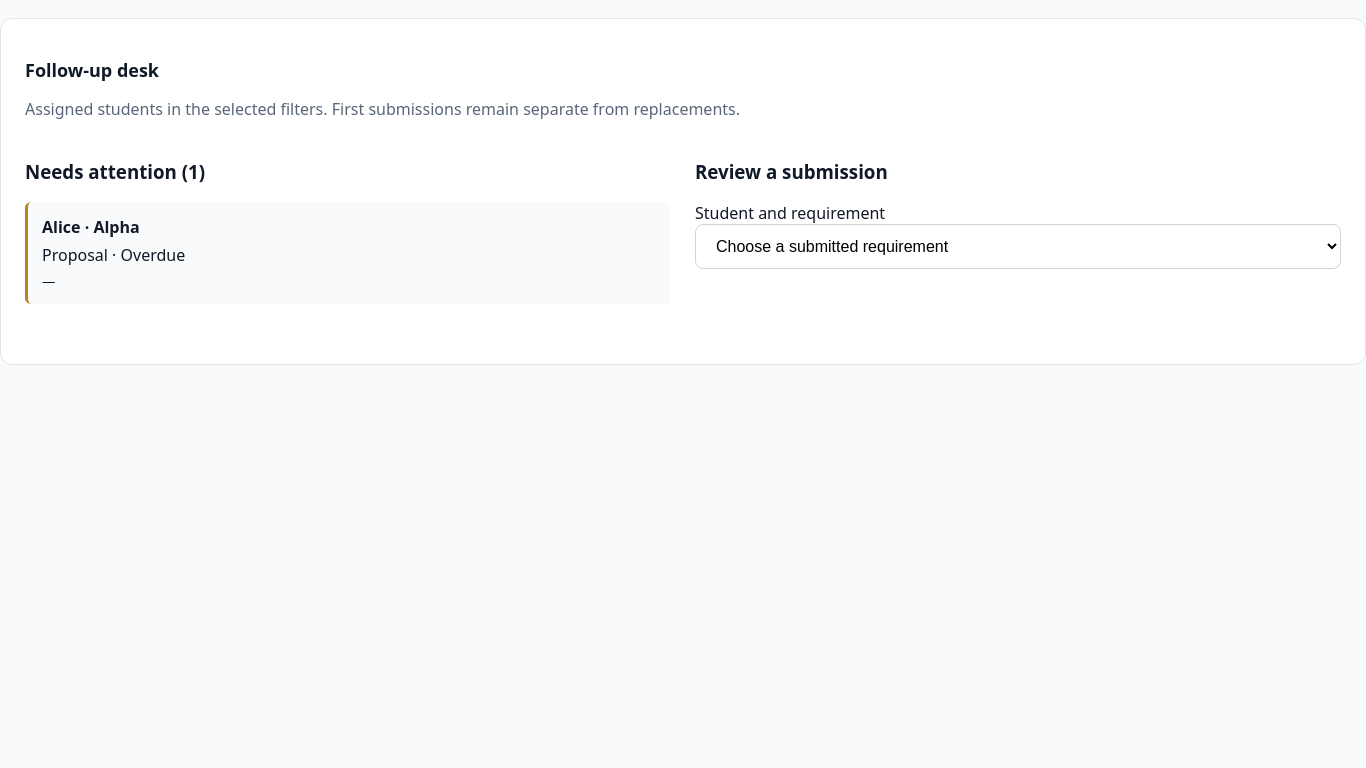
Test: shows follow-ups and fetches the selected submission history
This screenshot has width=1366, height=768.
Select "Bob · Beta · Proposal" in the dropdown labelled "Student and requirement" at (1018, 247), box [695,224,1341,269]
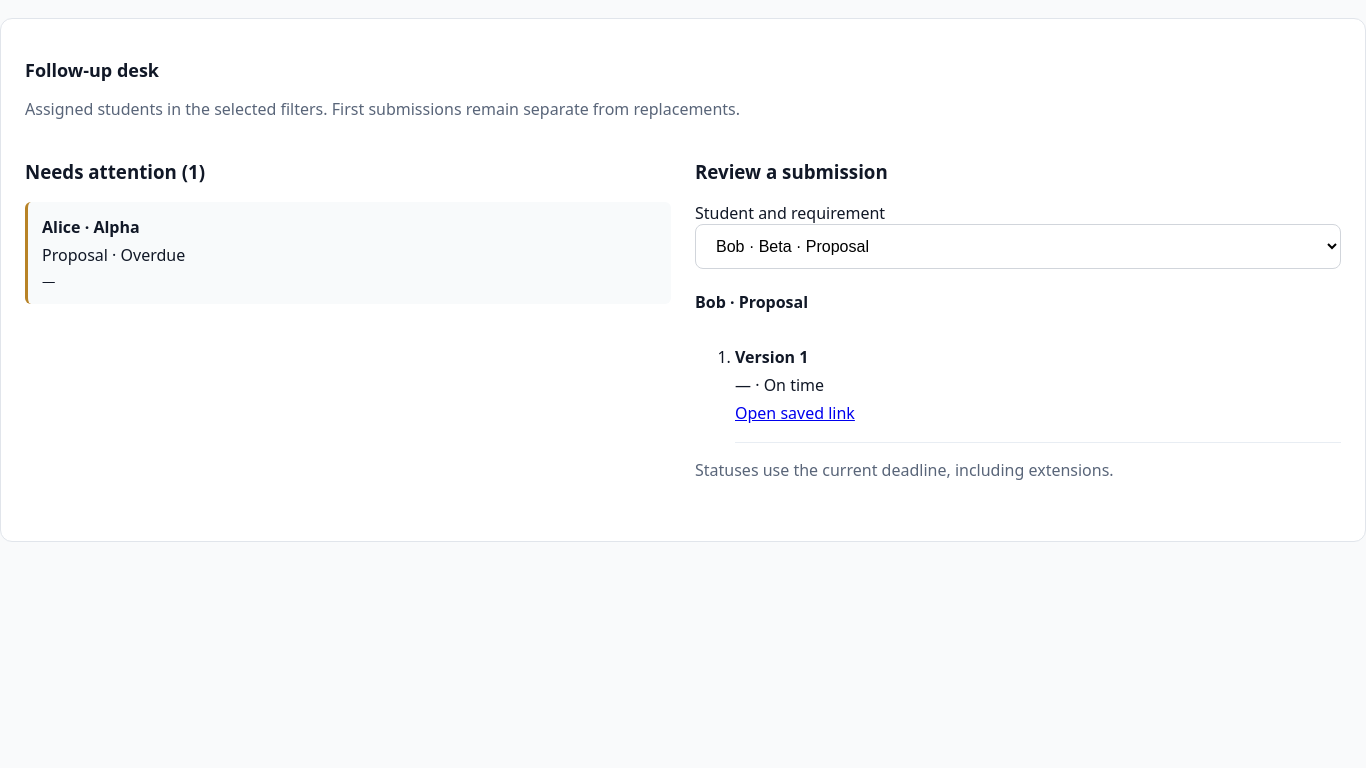
Now the text "Version 1" is shown, box [735,346,808,368]
